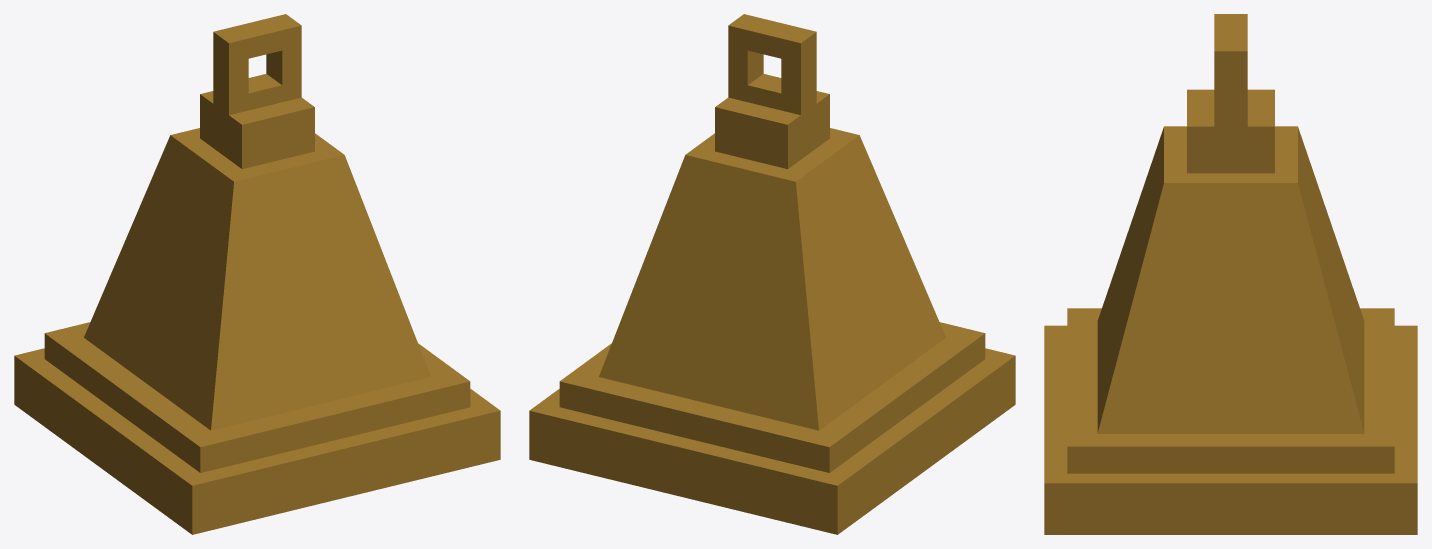
Rendered from 040 Xmas_Bell.fbx.
3 renders of one model, left to right at view 1: azimuth 30°, elevation 25°; view 2: azimuth 150°, elevation 25°; view 3: azimuth 270°, elevation 25°, orthographic. The views are drawn at different scales.
Visible parts, largest first — view 1: Lowpoly_Christmas_Pack_040:pCube6; view 2: Lowpoly_Christmas_Pack_040:pCube6; view 3: Lowpoly_Christmas_Pack_040:pCube6.
Boxes of the visible parts, box(x1,y1,x2,y2) form: Lowpoly_Christmas_Pack_040:pCube6: box(14, 14, 500, 534); Lowpoly_Christmas_Pack_040:pCube6: box(529, 14, 1015, 534); Lowpoly_Christmas_Pack_040:pCube6: box(1044, 14, 1417, 534).
Size of the model in its own units: 1 by 1.25 by 1.
